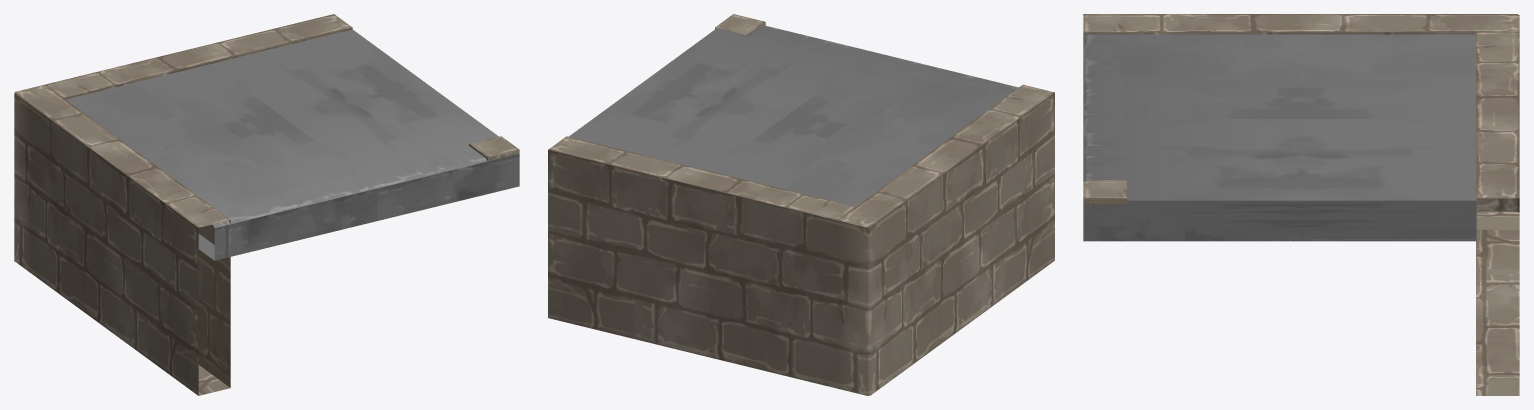
The model's file is Stairs_Exterior_Platform45.glb.
The picture shows the model from 3 angles, left to right: view 1: azimuth 30°, elevation 25°; view 2: azimuth 150°, elevation 25°; view 3: azimuth 270°, elevation 25°; orthographic projection. The views are drawn at different scales.
Parts seen in each view (by area): view 1: Stairs_Exterior_Platform45; view 2: Stairs_Exterior_Platform45; view 3: Stairs_Exterior_Platform45.
Boxes of the visible parts, box(x1,y1,x2,y2) form: Stairs_Exterior_Platform45: box(14, 14, 519, 395); Stairs_Exterior_Platform45: box(548, 14, 1054, 395); Stairs_Exterior_Platform45: box(1083, 14, 1519, 395).
Size of the model in its own units: 2 by 1 by 2.
2 materials, 2 textured.
